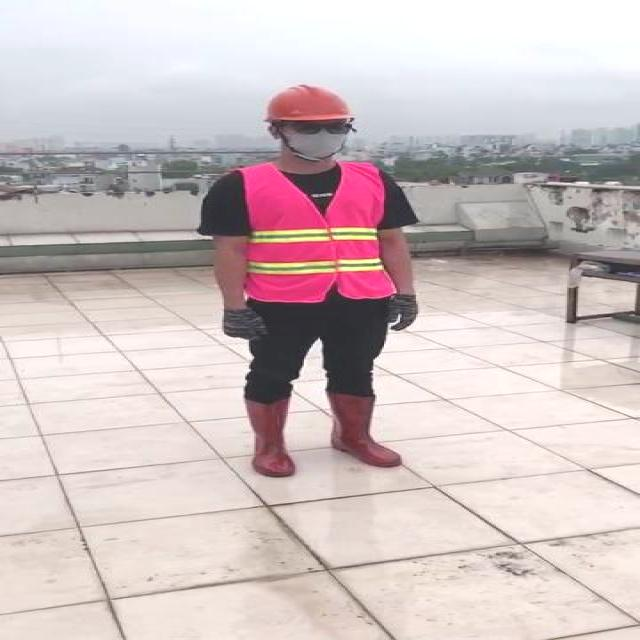boots: (331, 389, 407, 471), (236, 397, 297, 479)
face_mask: (283, 118, 353, 160)
glasses: (286, 118, 358, 138)
hand_glove: (217, 307, 265, 338), (386, 296, 421, 332)
head_helmet: (256, 81, 357, 123)
person: (190, 77, 434, 480)
vest: (238, 163, 400, 303)
